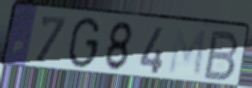4: (136, 23, 165, 77)
7: (35, 13, 68, 65)
8: (103, 20, 135, 74)
B: (201, 29, 241, 83)
G: (65, 15, 103, 71)
M: (166, 26, 209, 79)
